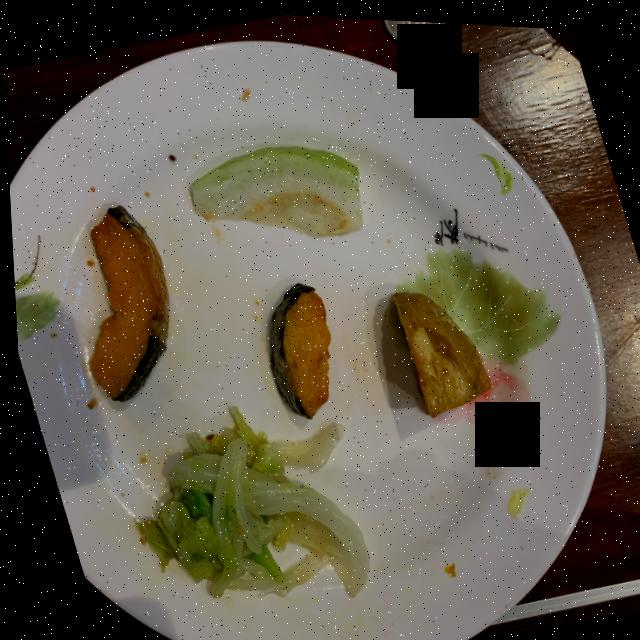cabbage: (131, 406, 363, 596)
coin: (383, 16, 443, 43)
fried potato: (388, 287, 486, 413)
guava -sliced-: (188, 143, 359, 234)
pumpkin: (84, 205, 165, 401), (265, 280, 326, 415)
